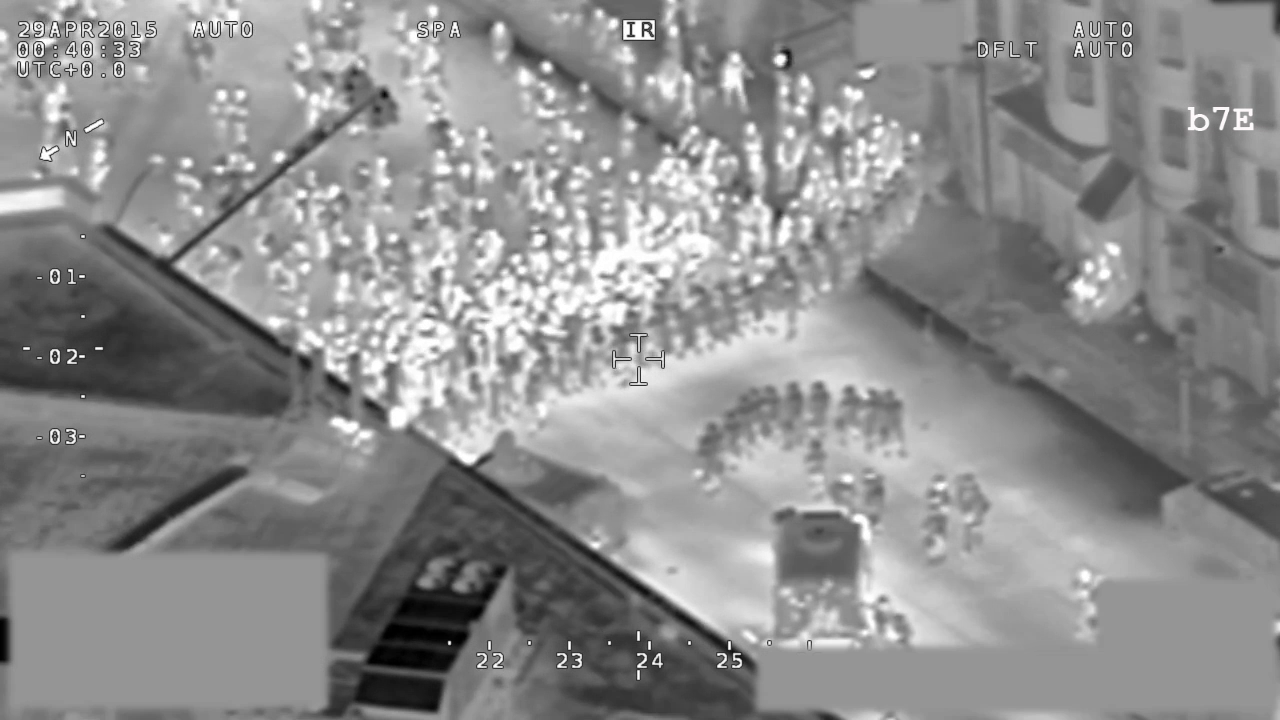vehicle: (767, 500, 883, 644)
